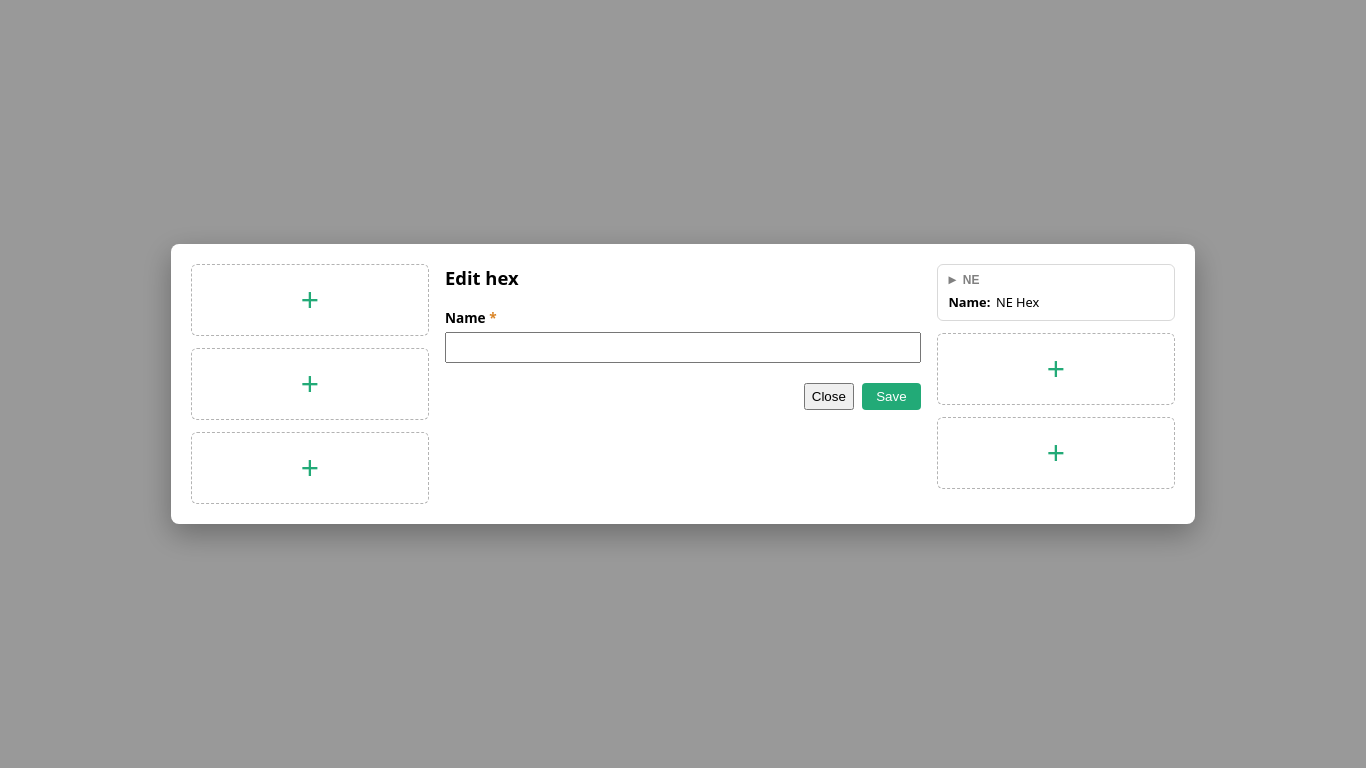
Scenario: HexFocusView › Edit with unsaved edits: Confirm discards them and navigates, without saving
Type "Dirty" into the field labelled "Name". click: (683, 348)
box: [445,332,921,363]
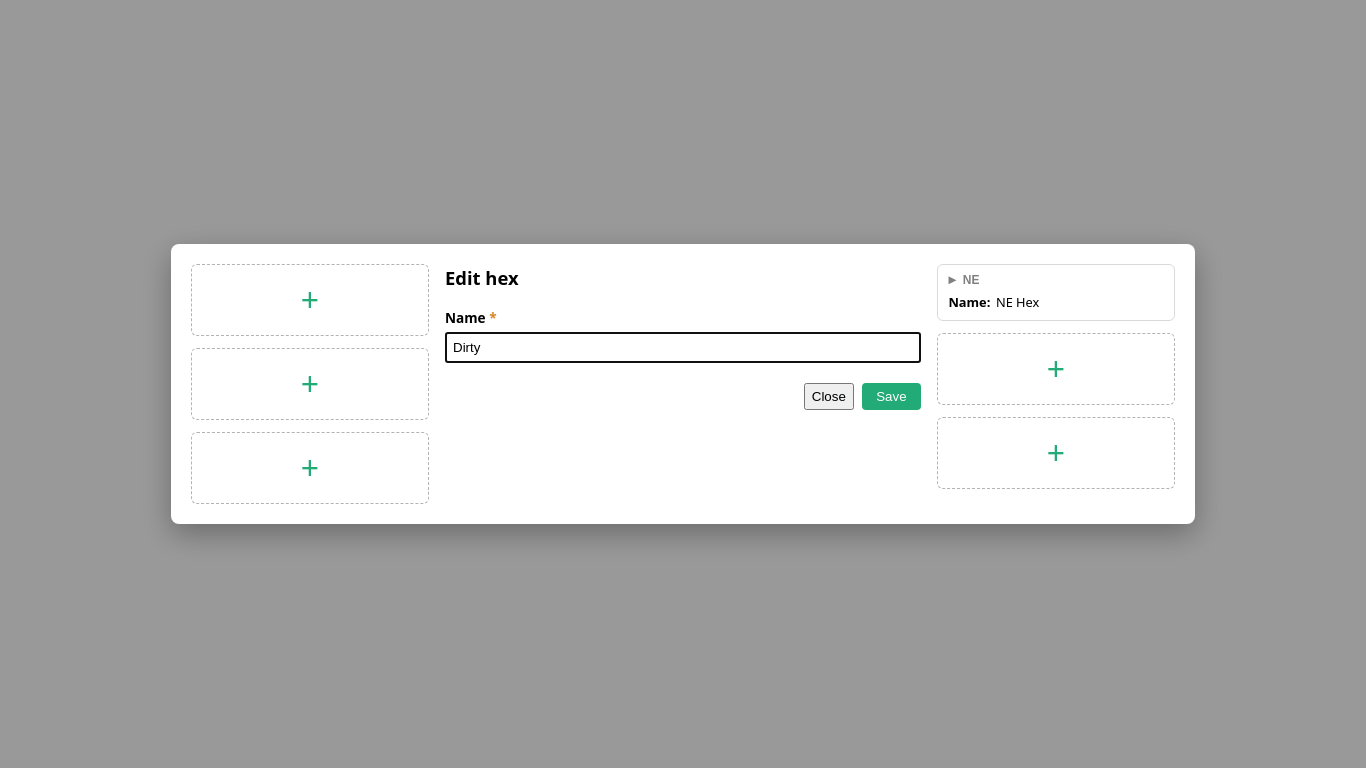
Click the button "▶ NE". click: (1056, 280)
box: [948,273,1164,287]
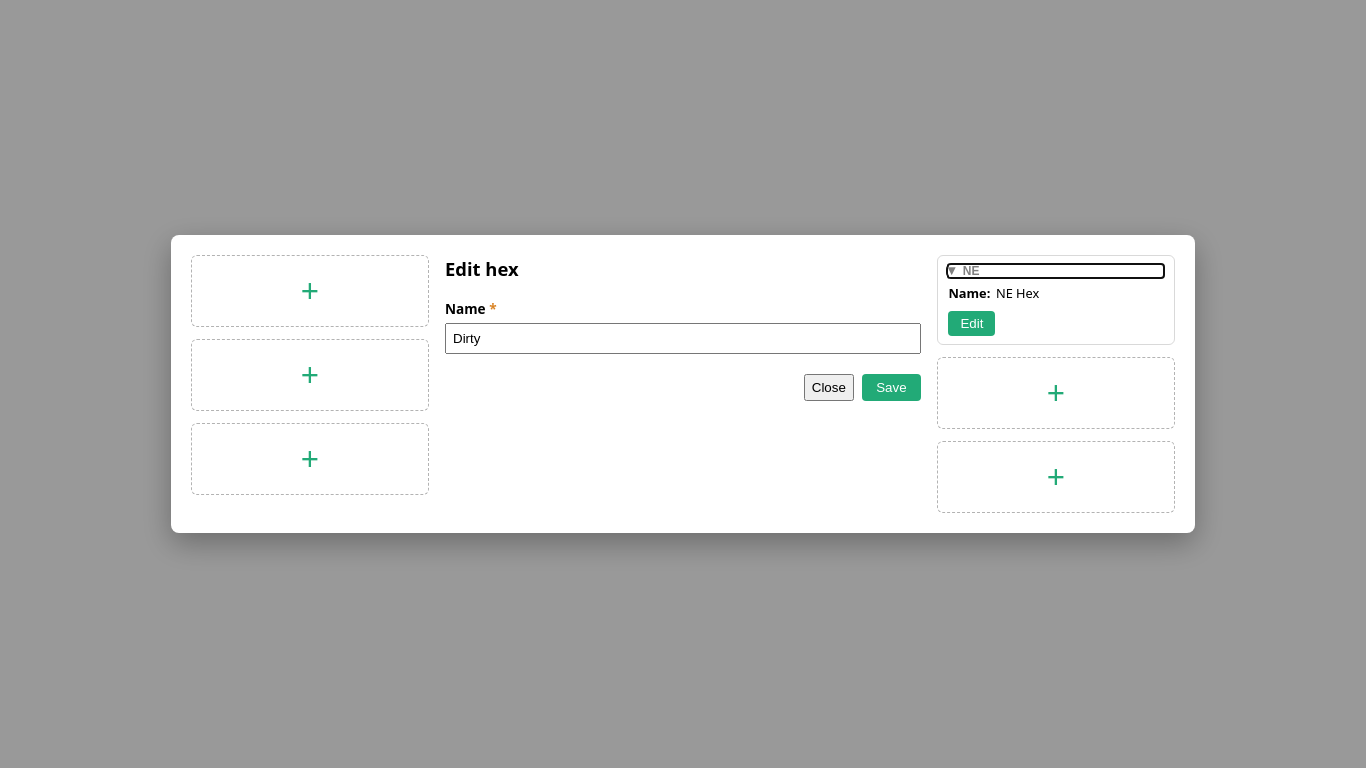
Click the button "Edit". click: (972, 323)
box: [948,311,995,336]
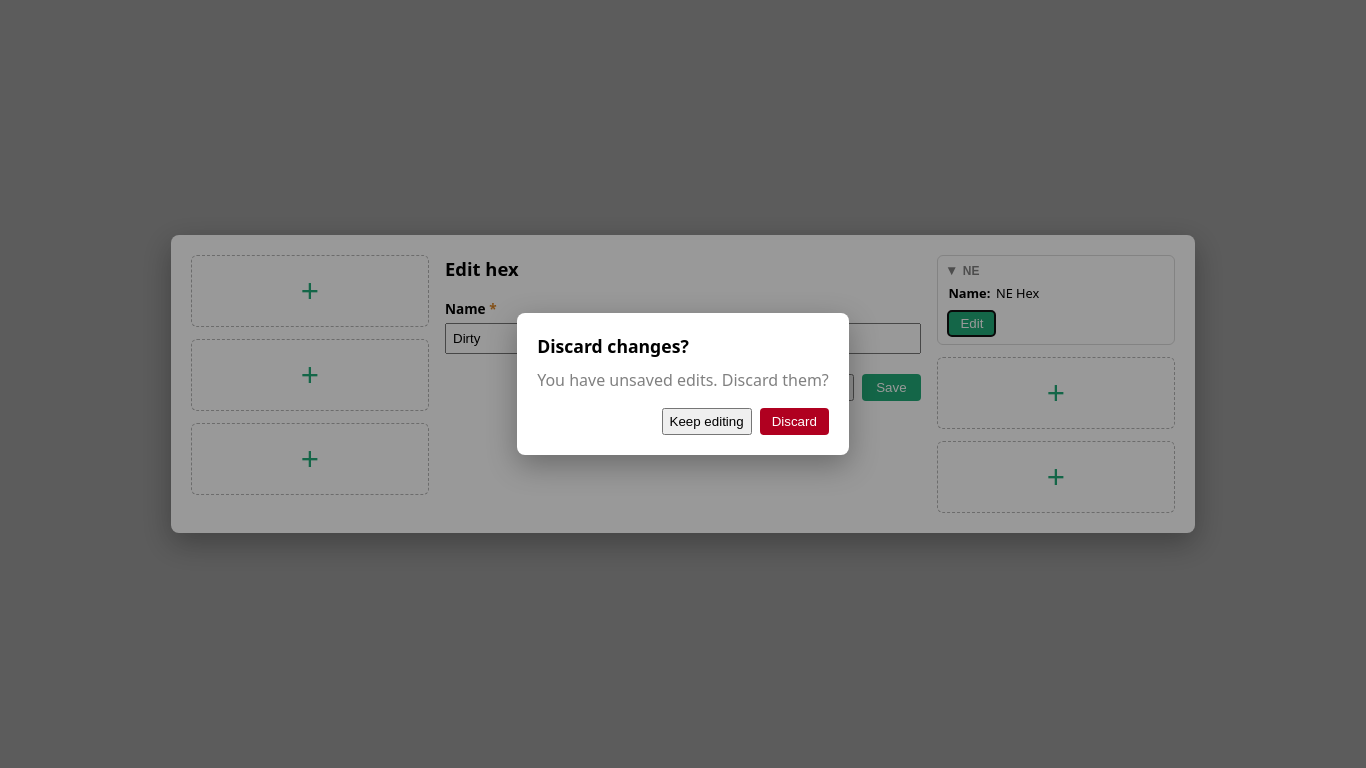
Click the button "Discard". click: (794, 421)
box: [760,408,829,435]
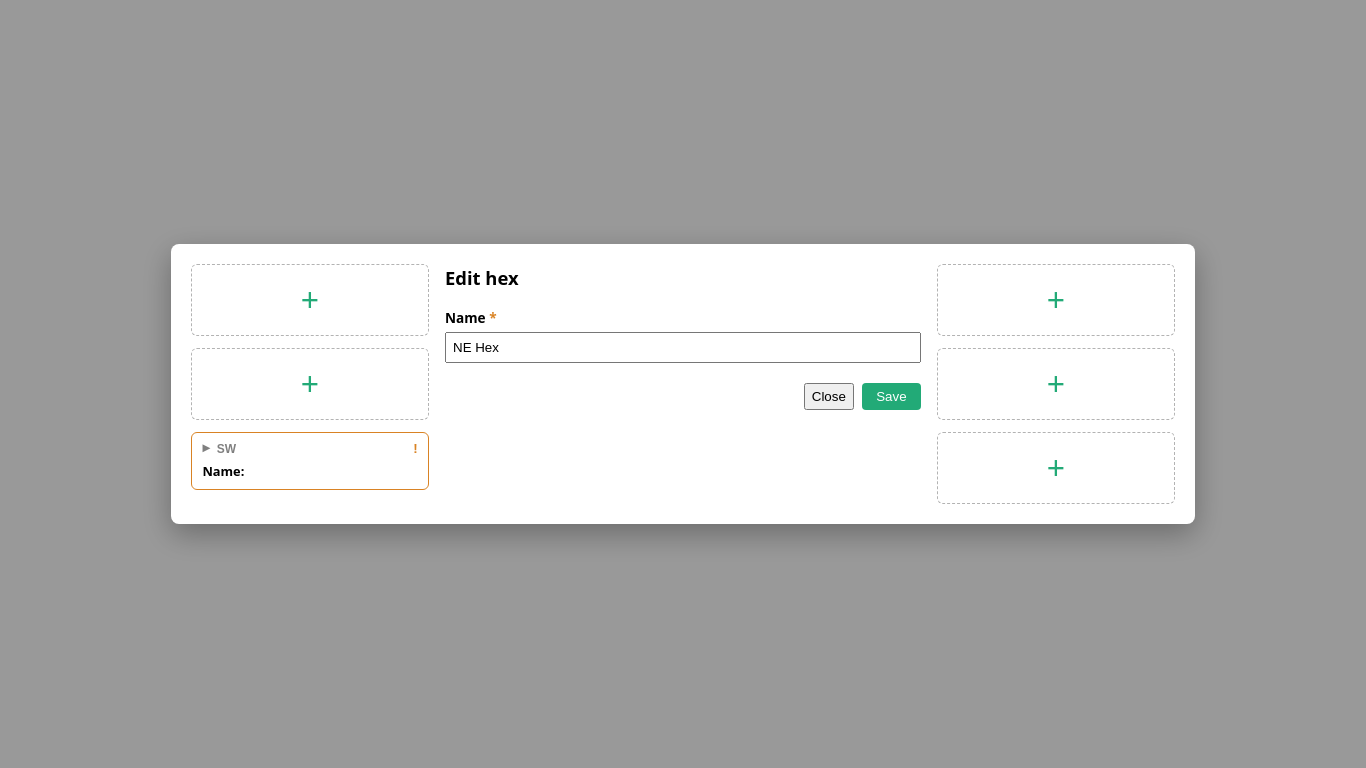
expect the field labelled "Name" holds "NE Hex": met, box [445,332,921,363]
